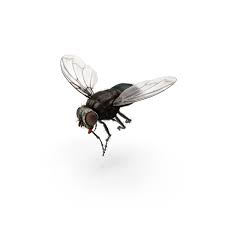insect: (60, 55, 177, 156)
